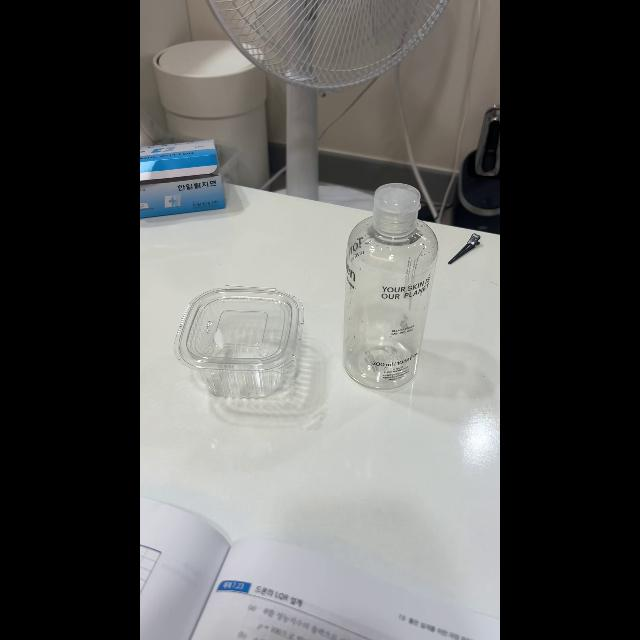clean: (342, 188, 438, 384), (187, 288, 305, 397)
